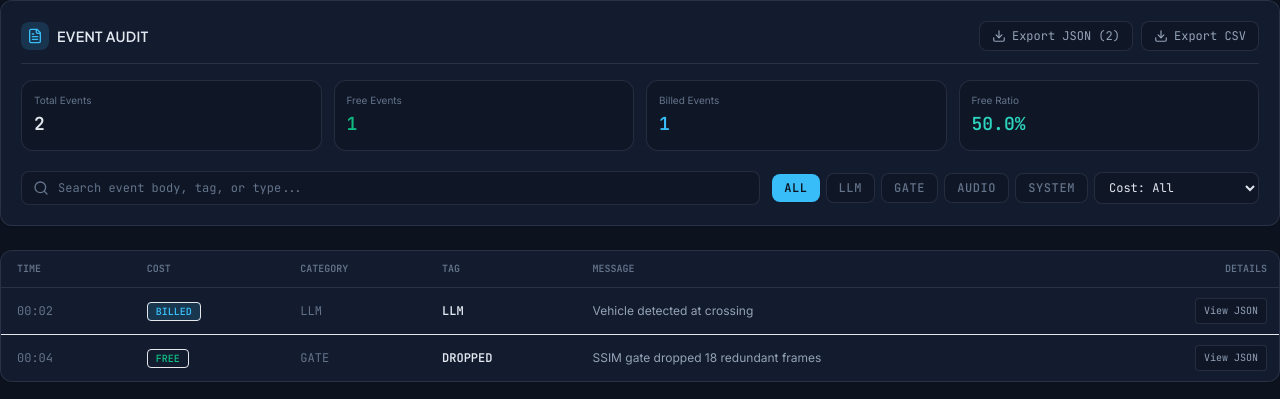
Test: EventAuditExplorer Component › filters events when typing in search input
In the field with placeholder "Search event body, tag, or type...": (391,188) [21,171,760,205], type "Vehicle"
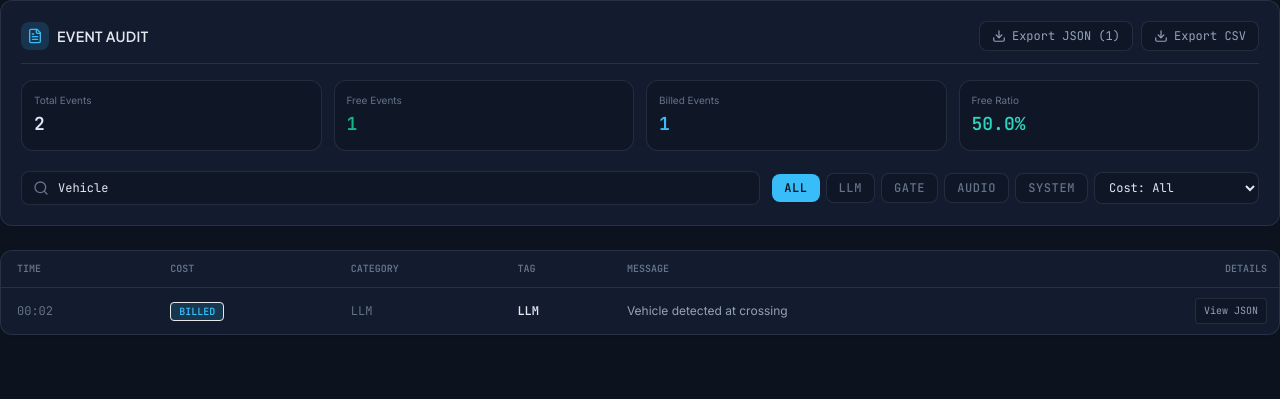
Expected: the text "Vehicle detected at crossing" is shown, [611,288,1057,334]
Expected: the text "SSIM gate dropped 18 redundant frames" is gone
